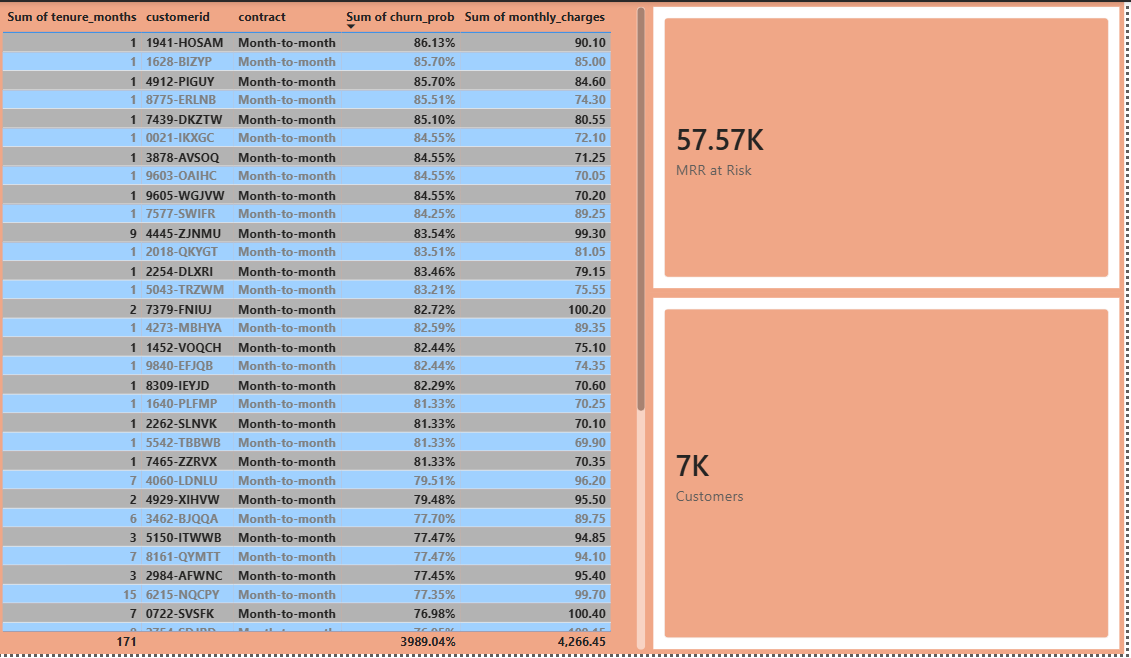

This screenshot's page, from the dashboard's own definition file:
{"tool":"powerbi","page":{"name":"Action List","canvas":[1280,720],"ordinal":3},"visuals":[{"type":"tableEx","fields":{"Values":["Sum(Customers.tenure_months)","Customers.customerid","Customers.contract","Sum(Customers.churn_prob)","Sum(Customers.monthly_charges)"]},"box":[34,0,720,720],"z":0},{"type":"cardVisual","fields":{"Data":["Customers.MRR at Risk"]},"box":[753.7,0,525.1,321.4],"z":1},{"type":"cardVisual","fields":{"Data":["Customers.Customers"]},"box":[754,321.3,525.4,398.7],"z":2}]}

Visuals, with their boxes in screenshot pixels (x1, y1, x2, y2):
tableEx - Sum(Customers.tenure_months) x Customers.customerid: locate(0, 0, 646, 650)
cardVisual - Customers.MRR at Risk: locate(646, 0, 1120, 290)
cardVisual - Customers.Customers: locate(646, 290, 1120, 650)
